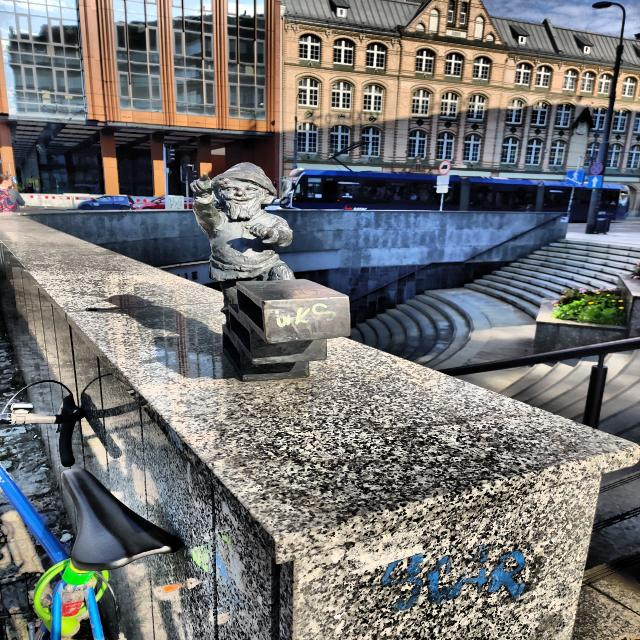Elementek: (192, 162, 350, 381)
